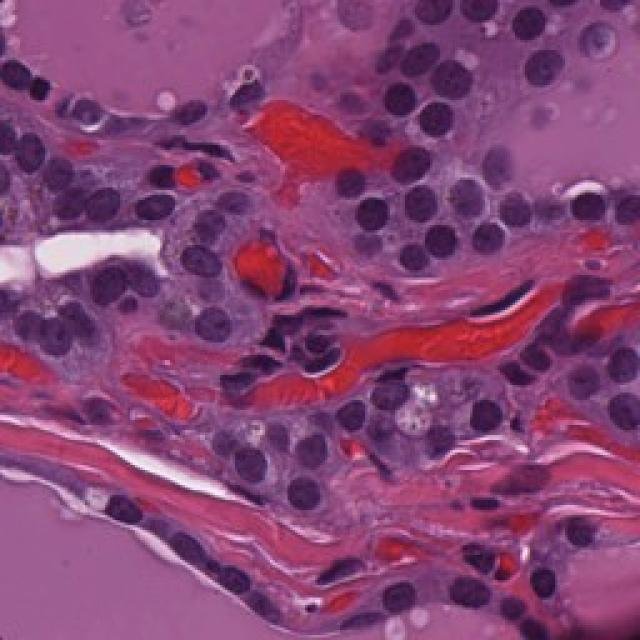normal: (163, 230, 244, 294), (199, 541, 261, 624), (276, 454, 336, 538), (395, 20, 462, 93), (220, 431, 285, 505), (477, 178, 543, 250), (279, 407, 353, 470), (582, 320, 640, 400), (561, 169, 620, 247), (366, 358, 428, 432), (189, 282, 245, 362), (91, 474, 145, 550), (413, 214, 475, 278), (70, 172, 129, 239), (545, 351, 615, 406), (587, 379, 637, 447), (372, 77, 429, 136), (460, 209, 518, 266), (121, 169, 175, 229), (341, 176, 393, 238), (14, 287, 55, 361), (380, 554, 420, 627), (443, 574, 495, 628), (436, 46, 480, 108)
